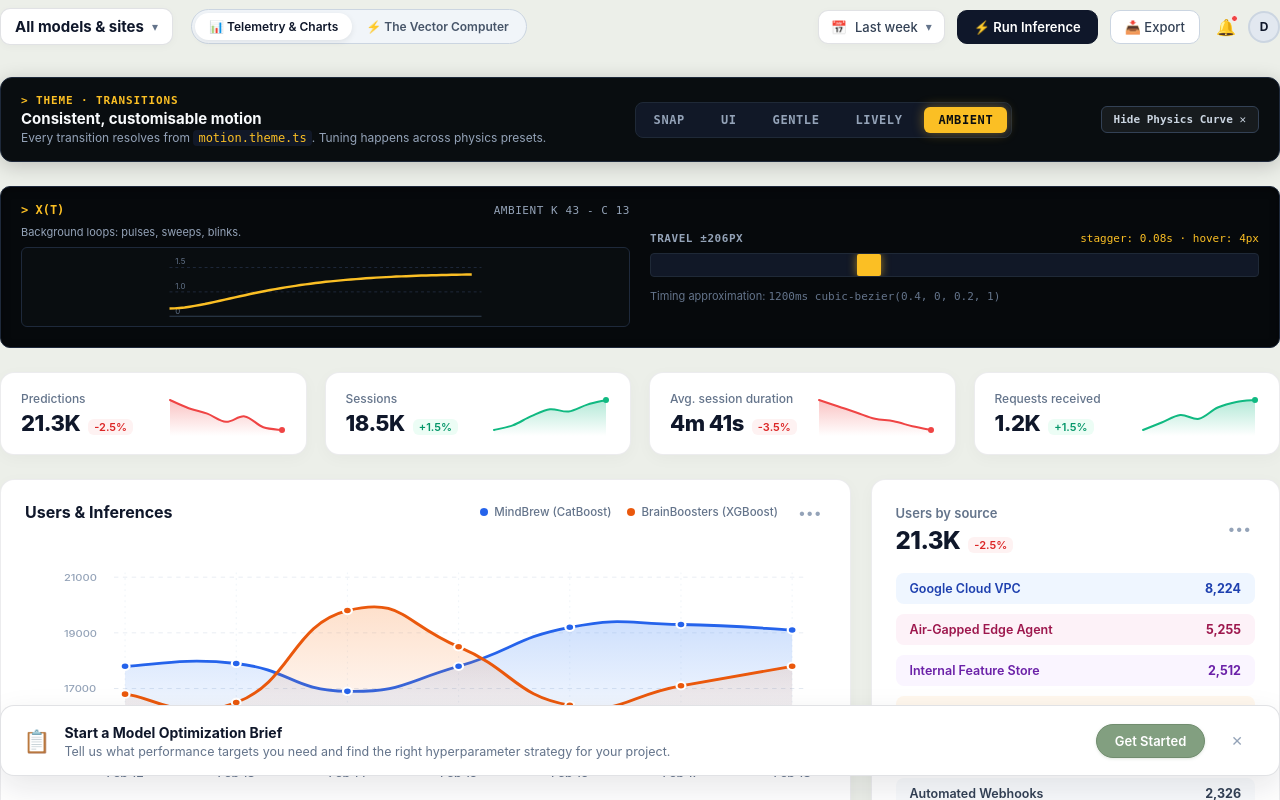
Test: AnalysisView Component › dismisses the floating model optimization brief banner
Click the button named "Dismiss banner".
click(1237, 740)  # box [1217,724,1257,757]
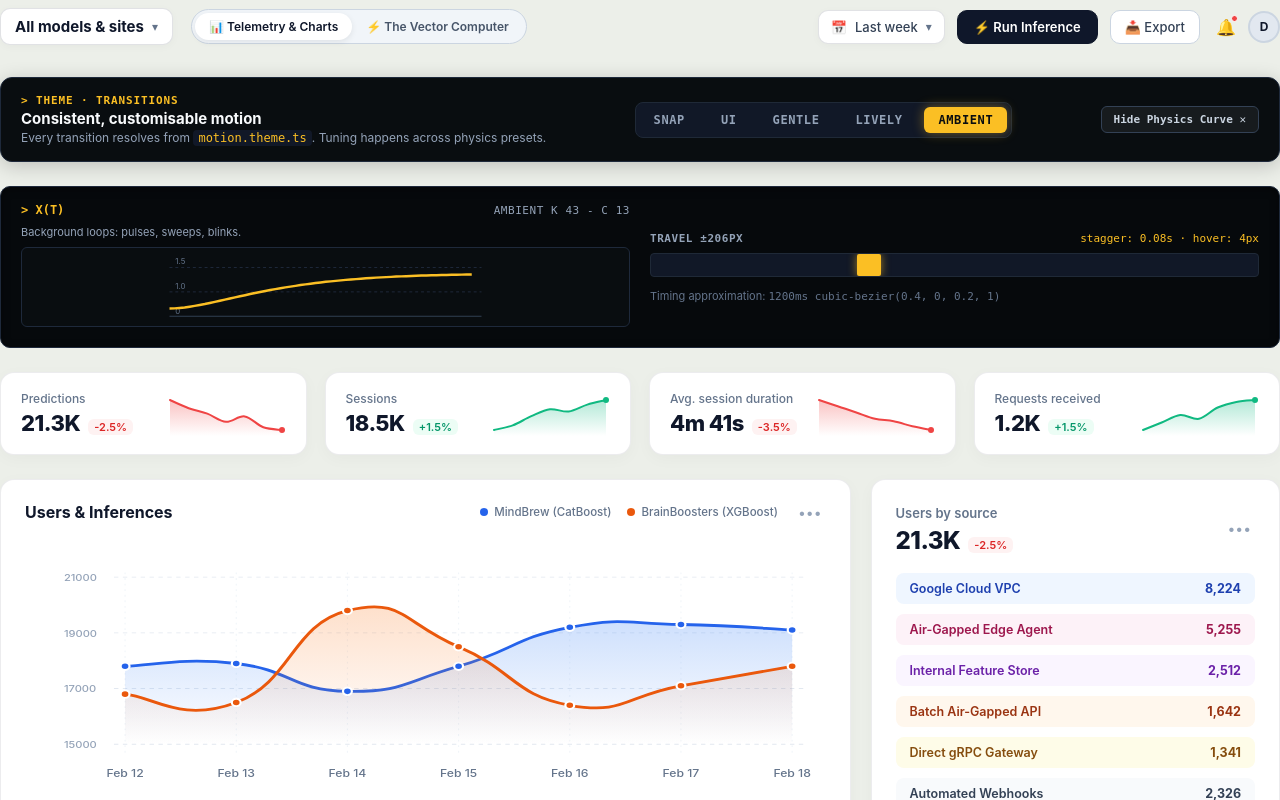
Result: the text "Start a Model Optimization Brief" is gone
